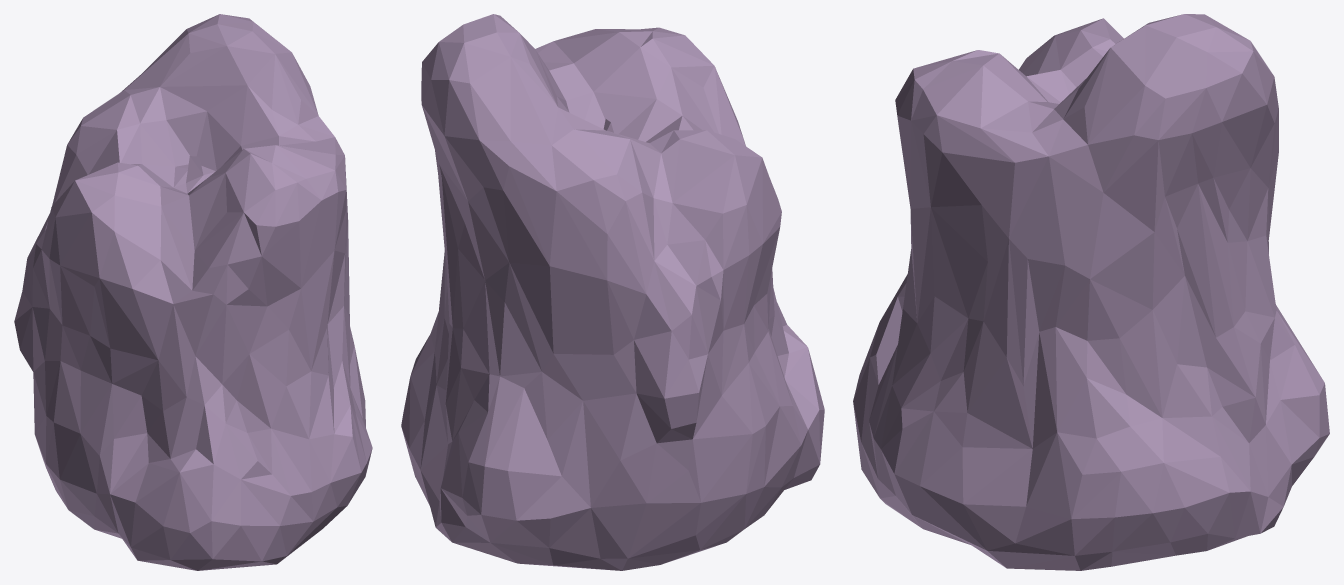
Rendered from candle_1.fbx.
The picture shows the model from 3 angles, left to right: view 1: azimuth 30°, elevation 25°; view 2: azimuth 150°, elevation 25°; view 3: azimuth 270°, elevation 25°; orthographic projection. The views are drawn at different scales.
Visible parts, largest first — view 1: Candle_1; view 2: Candle_1; view 3: Candle_1.
Boxes of the visible parts, x1,y1,x2,y2 form: Candle_1: (14, 14, 372, 570); Candle_1: (401, 14, 824, 570); Candle_1: (853, 14, 1329, 570).
Size of the model in its own units: 4.74 by 6.62 by 5.36.
